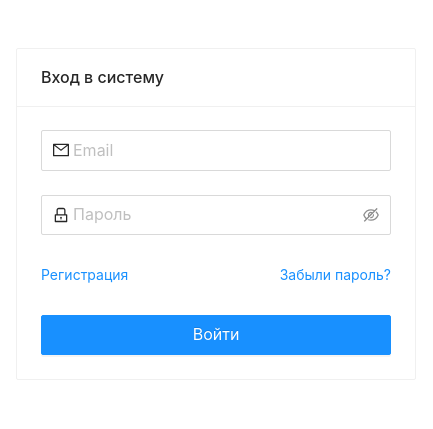
Scenario: Login form › Should login success with correct credentials
The image size is (433, 429).
In the field with placeholder "Email": (226, 150) [73,138,379,163], type "usermail@gmail.com"
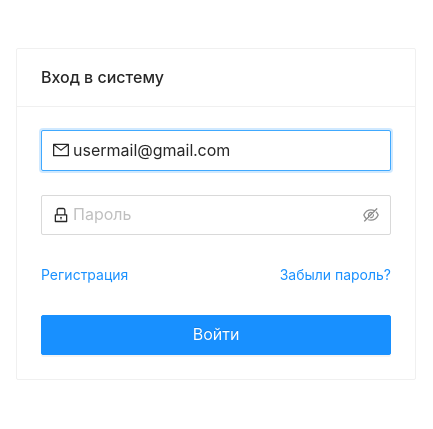
In the password field with placeholder "Пароль": (216, 215) [73,202,359,227], type "2M8N3b3d3E"
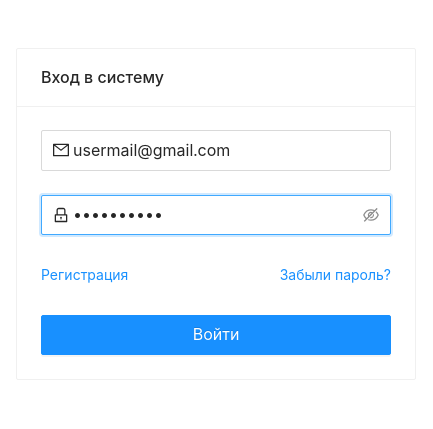
Click the button: (216, 335) [41,315,391,355]
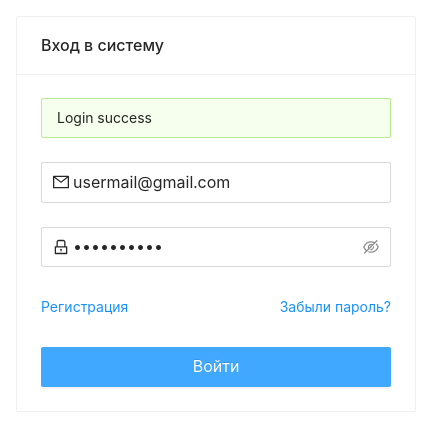
Expected: the message reads "Login success", [57,109,152,126]
